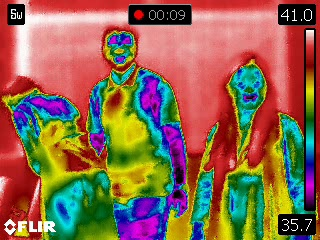human: (86, 26, 190, 240), (192, 54, 304, 240), (1, 76, 113, 240)
